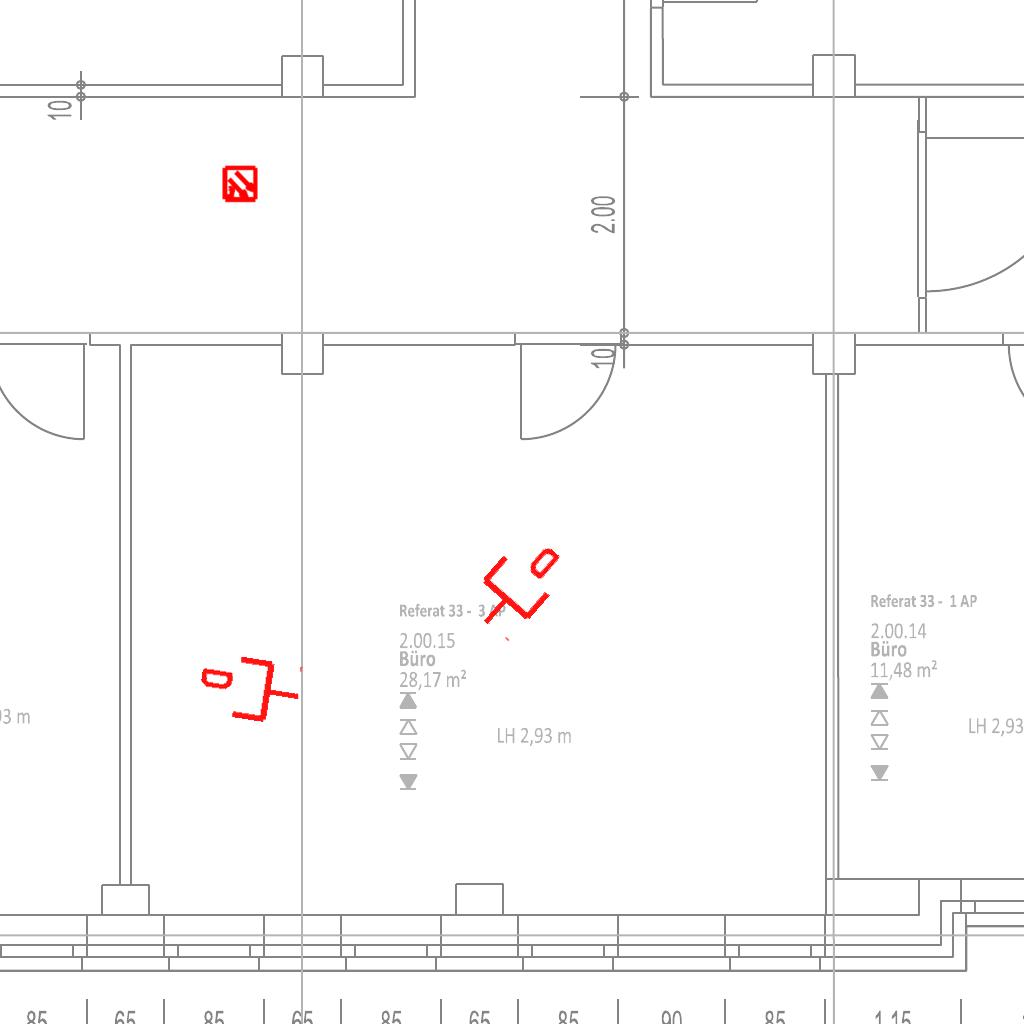Datenanschluss_einfach: (458, 525, 577, 647), (195, 647, 306, 731)
OT_Multisensormelder_(Kombination_RMO_WMD): (212, 157, 268, 213)
